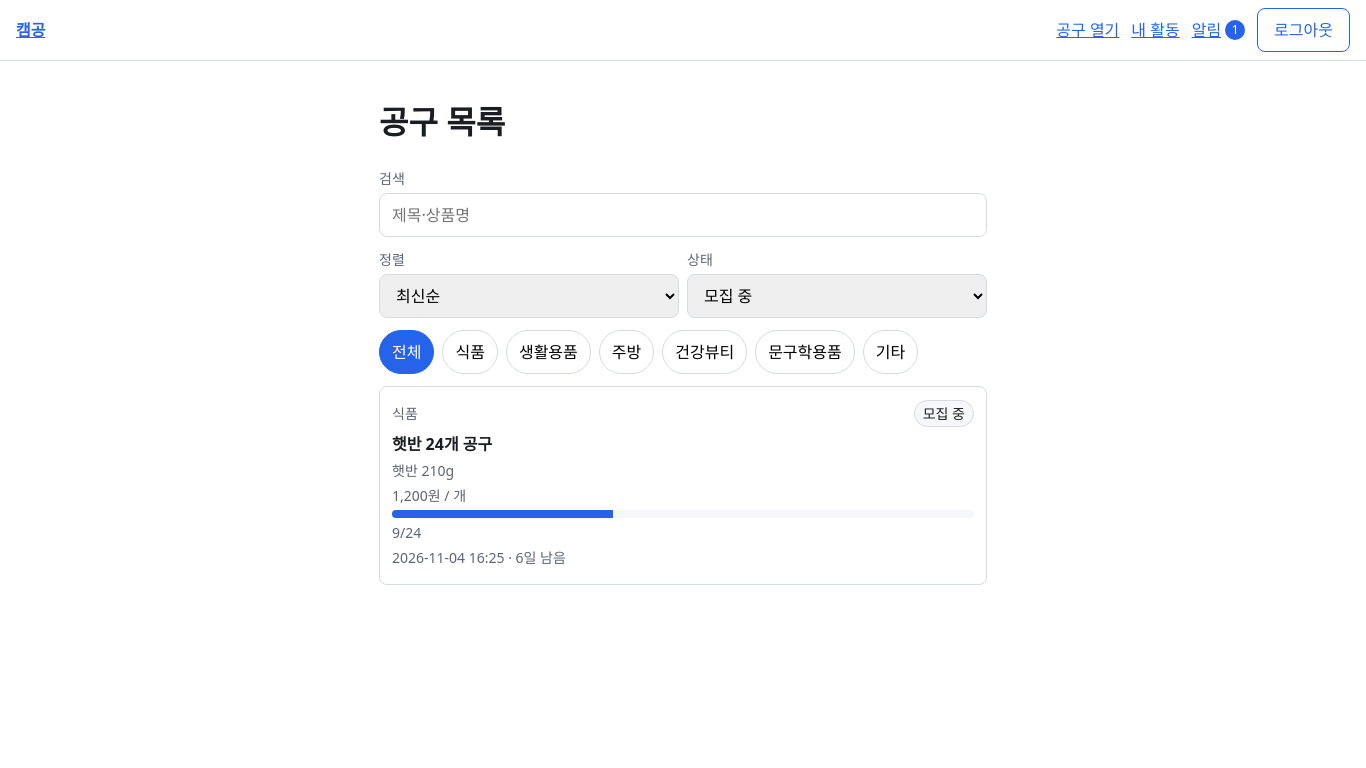
Scenario: 알림 (US7) › 로그아웃하면 배지가 사라진다
Expected: the text labelled "1" is shown, [1225,20,1245,40]
Click the button "로그아웃" at (1304, 30), box [1257,8,1350,52]
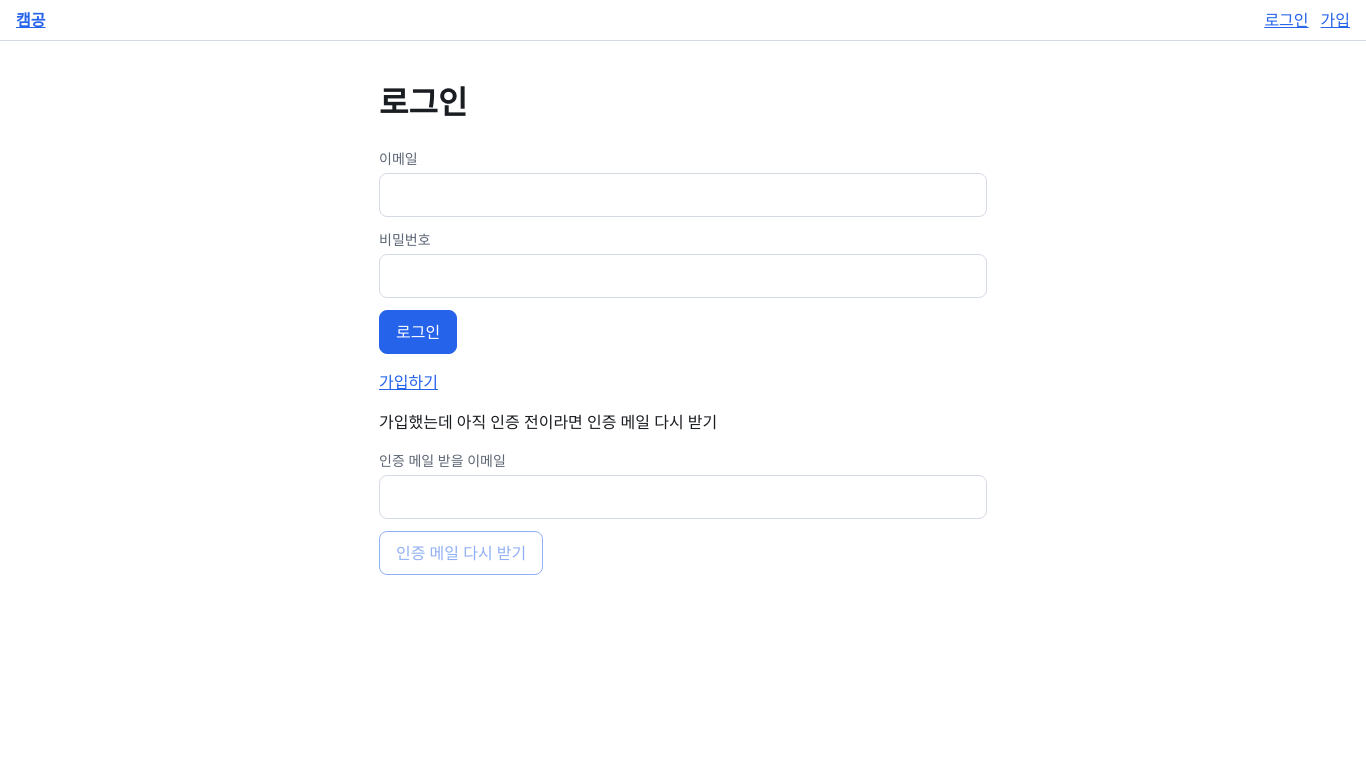
Result: the link "알림" is gone
